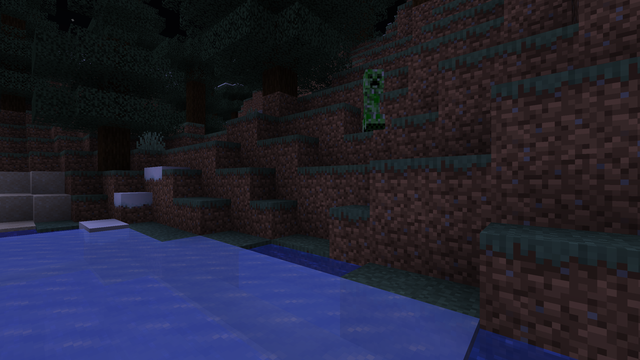creepers: (358, 63, 387, 132)
